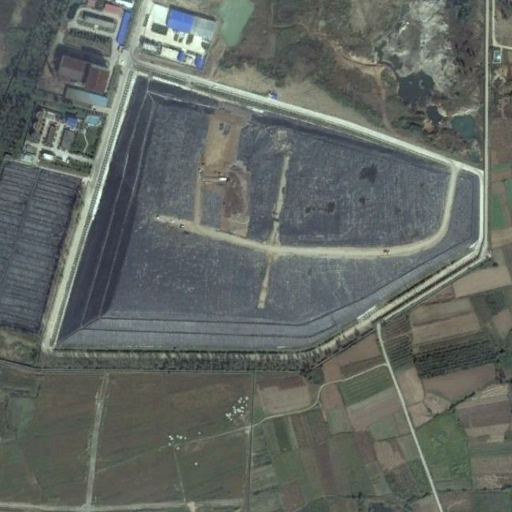lf: (41, 68, 489, 354)
